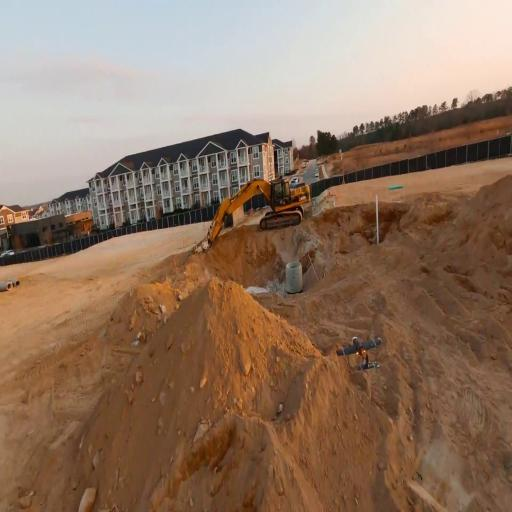uav: (334, 332, 386, 377)
